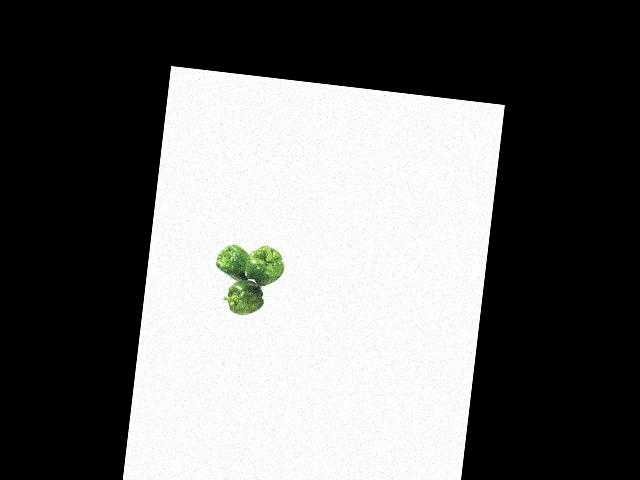bell_pepper: (241, 240, 290, 288)
